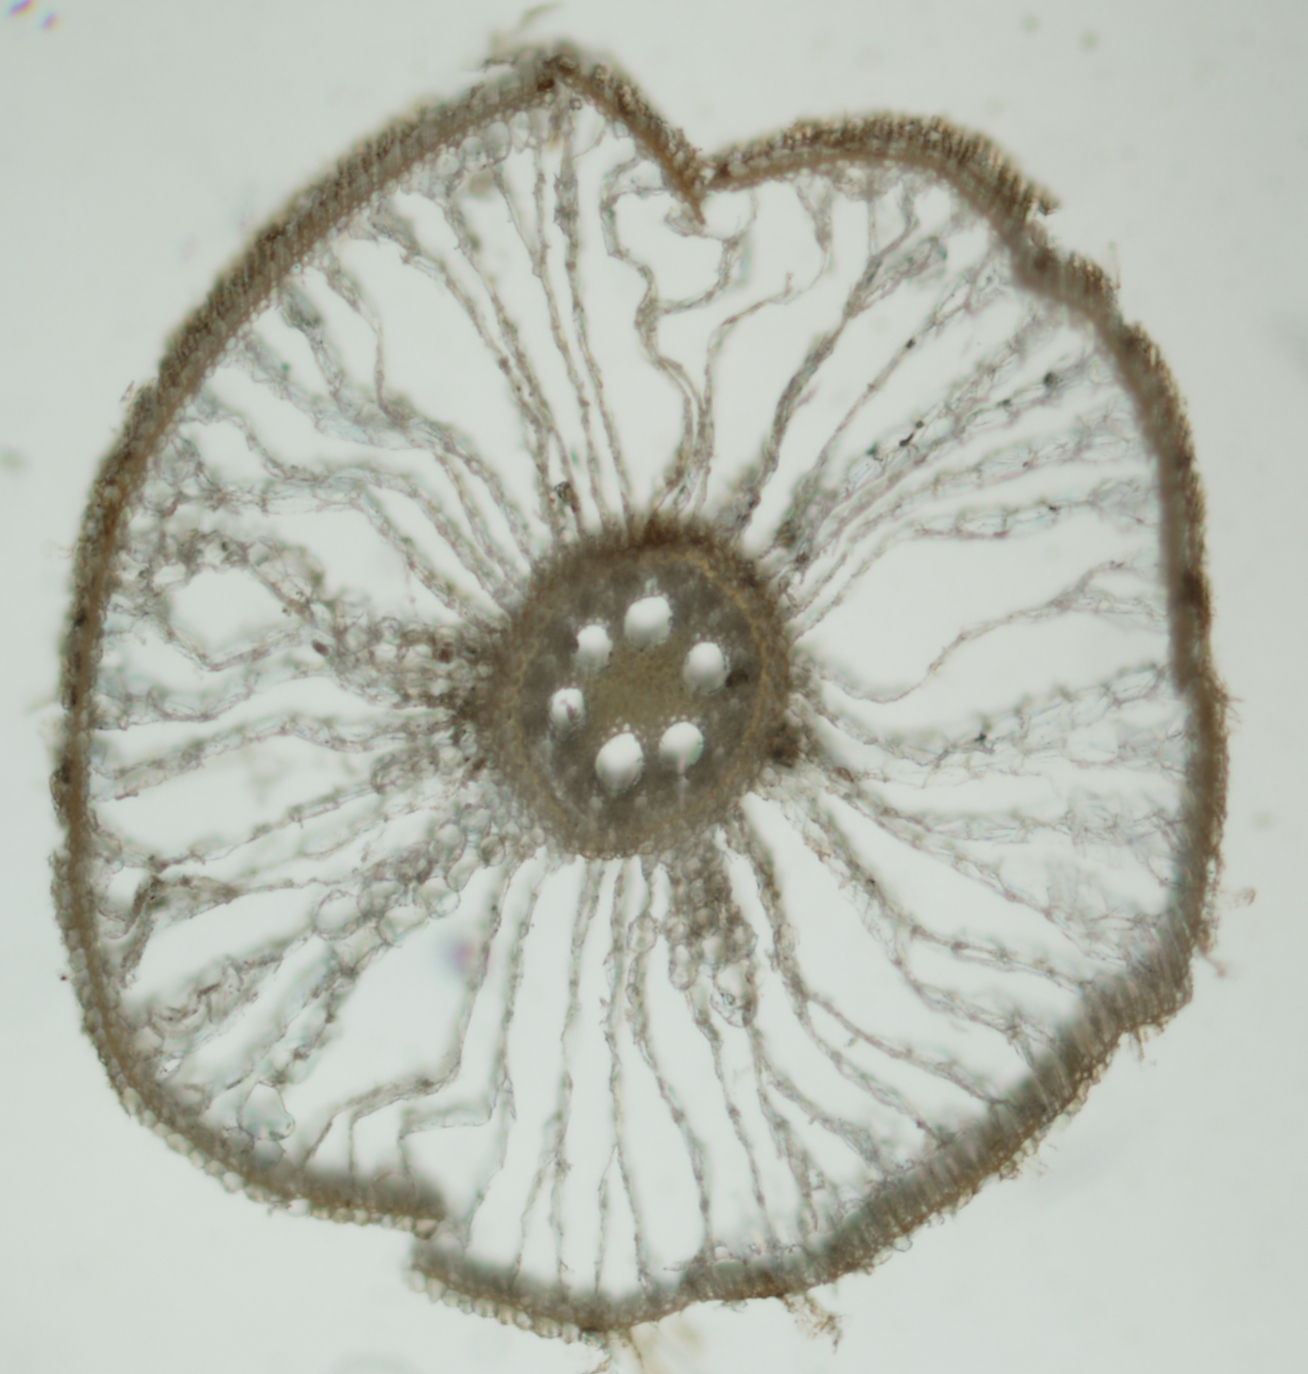lm: (595, 731, 643, 793), (625, 595, 672, 650), (683, 642, 728, 696), (659, 720, 704, 772), (546, 686, 585, 739), (572, 622, 611, 670)
